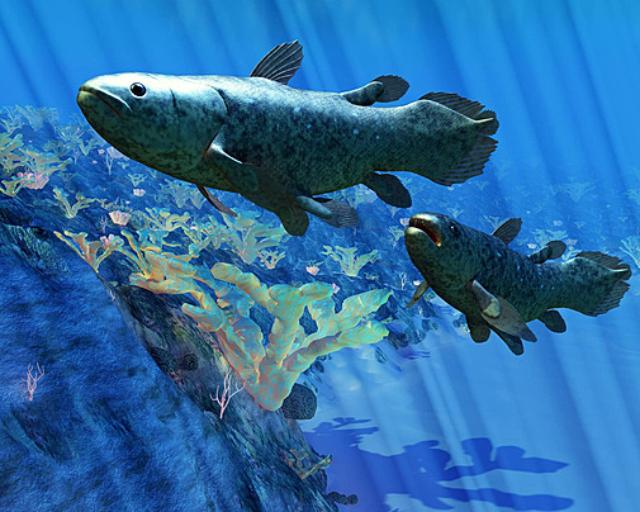Mulut: (64, 70, 134, 118), (398, 206, 454, 256)
Sirip Anal: (354, 160, 416, 206), (530, 300, 582, 342)
Sirip Dada: (184, 134, 284, 246), (390, 275, 526, 339)
Sirip Ekor: (414, 84, 508, 198), (572, 240, 640, 328)
Sirip Perut: (455, 306, 527, 346)
Sirip Punggung: (226, 30, 414, 116), (482, 211, 572, 279), (266, 192, 368, 250)
